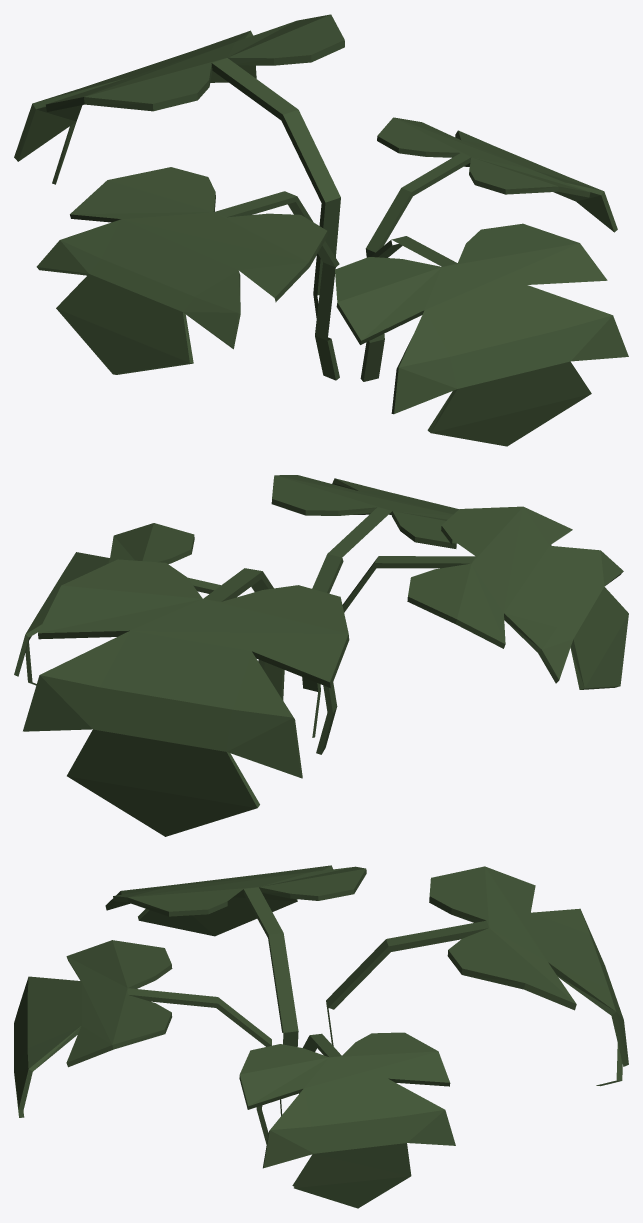
File: Plant_4.glb
3 views of the same model, one above another, from view 1: azimuth 30°, elevation 25°; view 2: azimuth 150°, elevation 25°; view 3: azimuth 270°, elevation 25° (orthographic). The views are drawn at different scales.
Visible parts, largest first — view 1: Plant_4_Plane.006; view 2: Plant_4_Plane.006; view 3: Plant_4_Plane.006.
Boxes of the visible parts, x1,y1,x2,y2 form: Plant_4_Plane.006: (14, 14, 628, 446); Plant_4_Plane.006: (14, 475, 628, 836); Plant_4_Plane.006: (14, 865, 628, 1208).
Size of the model in its own units: 1.91 by 0.8109 by 2.12.
